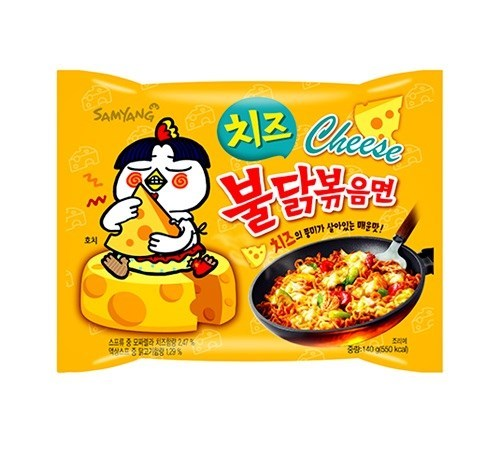Snack: (51, 66, 451, 378)
